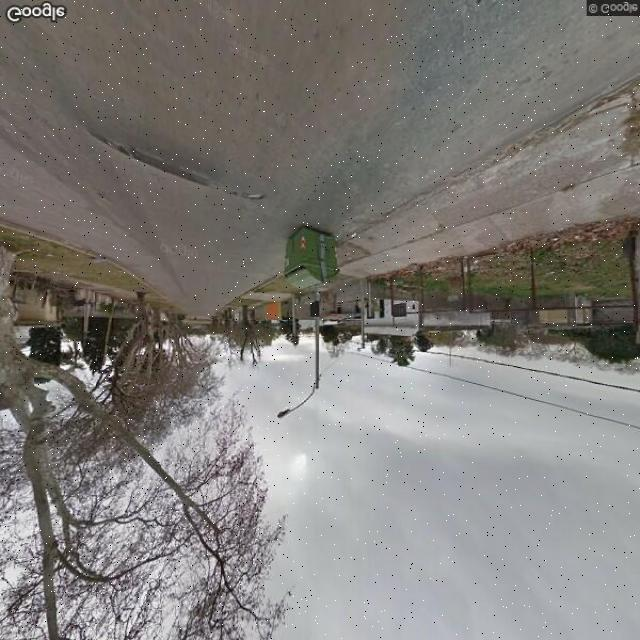garbage container: (276, 216, 355, 294)
